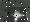person: (8, 8, 27, 22)
